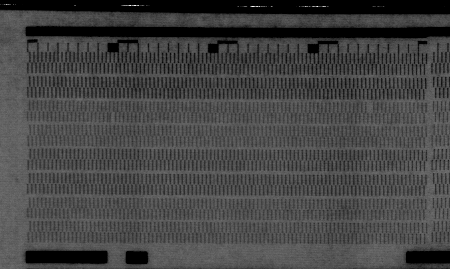Broken hole: (364, 102, 376, 114)
Oblique printing: (106, 111, 118, 123)
